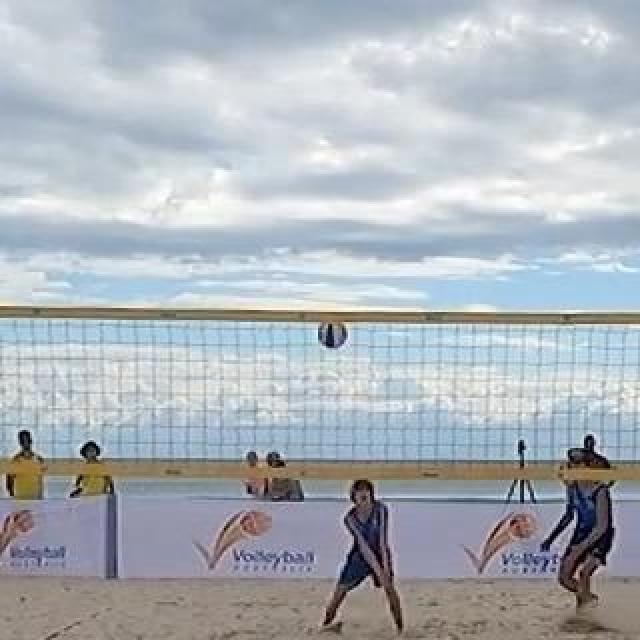volleyball: (318, 319, 348, 349)
